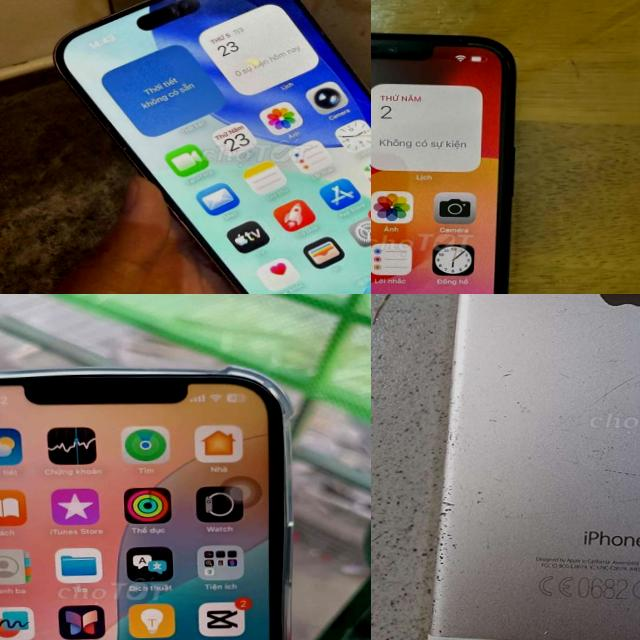scratch: (434, 409, 503, 640), (580, 411, 640, 535)
